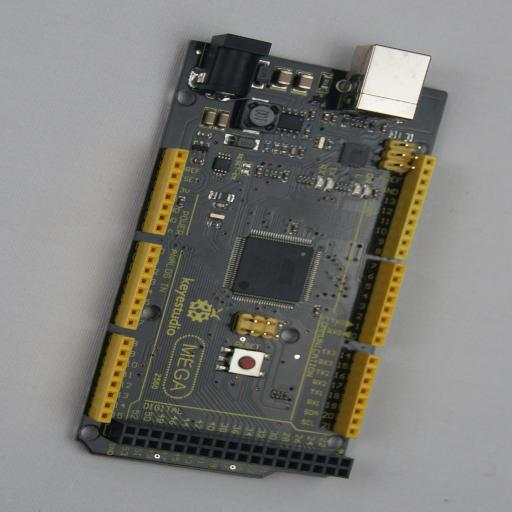Arduino Mega 2560 -Black and Yellow-: (68, 34, 448, 478)
